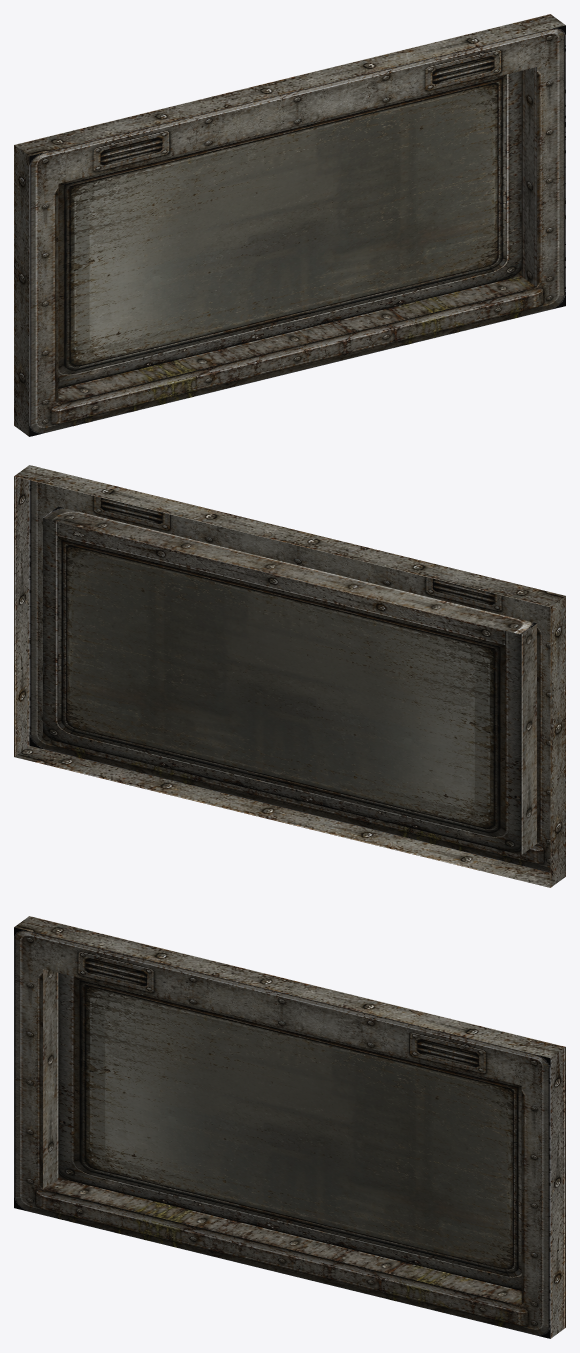
File: Window.fbx
3 renders of one model, top to bottom at view 1: azimuth 30°, elevation 25°; view 2: azimuth 150°, elevation 25°; view 3: azimuth 330°, elevation 25°, orthographic.
Visible parts, largest first — view 1: WindowGlass, WindowFrame; view 2: WindowGlass, WindowFrame; view 3: WindowGlass, WindowFrame.
Boxes of the visible parts, bbox=[...] form: WindowGlass: bbox=[58, 71, 521, 388]; WindowFrame: bbox=[14, 14, 565, 436]; WindowGlass: bbox=[43, 518, 521, 854]; WindowFrame: bbox=[14, 465, 565, 887]; WindowGlass: bbox=[58, 973, 521, 1290]; WindowFrame: bbox=[14, 916, 565, 1338].
Size of the model in its own units: 200 by 100 by 10.
